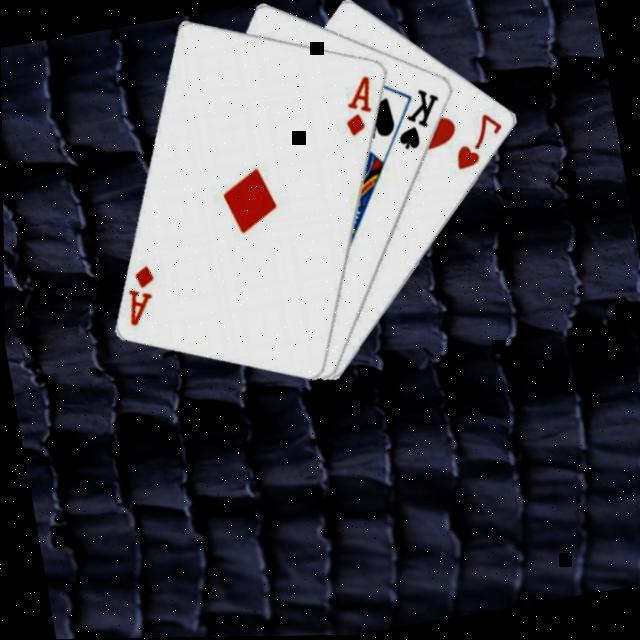7H: (444, 107, 510, 173)
AD: (334, 70, 381, 140), (117, 260, 163, 329)
KS: (387, 83, 449, 154)
